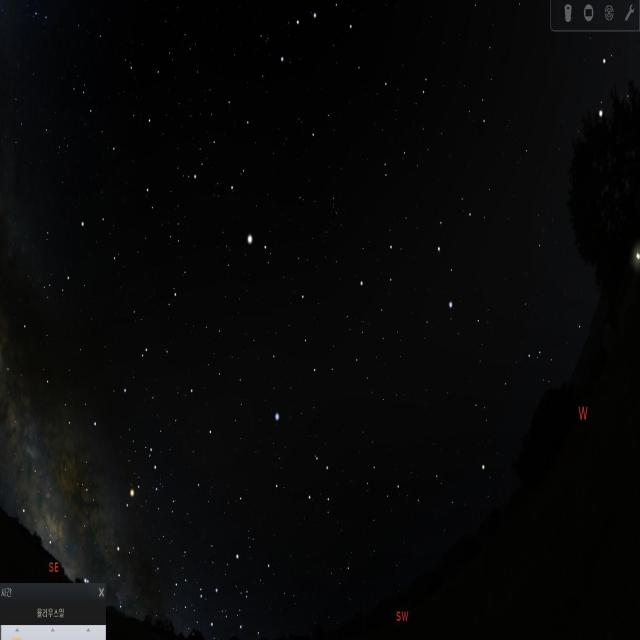bootes: (205, 77, 268, 257)
leo: (352, 179, 486, 336)
scorpius: (107, 413, 177, 590)
